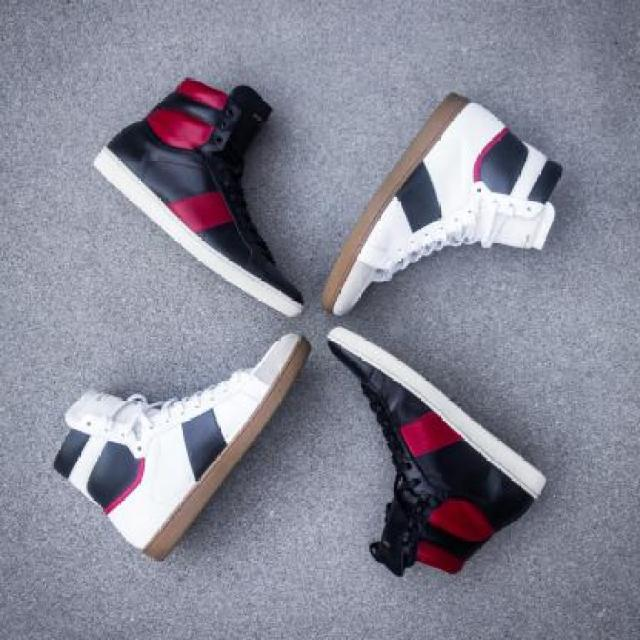shoe: (51, 330, 312, 562), (321, 325, 548, 577), (320, 89, 565, 316), (88, 76, 307, 319)
